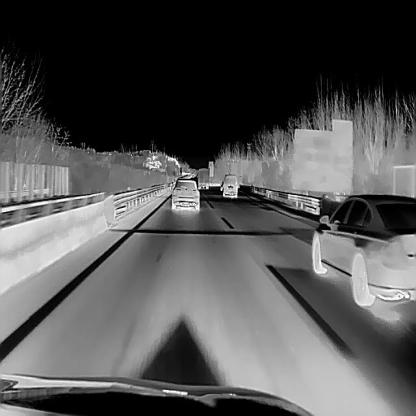car: (312, 192, 416, 308), (171, 175, 199, 211), (222, 173, 236, 197)
truck: (196, 166, 209, 188)
